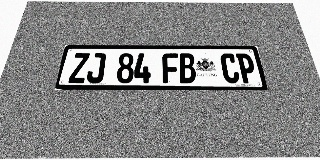4: (134, 53, 151, 83)
8: (116, 53, 135, 83)
B: (178, 53, 197, 83)
C: (220, 53, 241, 83)
F: (162, 53, 179, 83)
J: (86, 53, 106, 83)
P: (236, 53, 258, 83)
Z: (68, 53, 90, 83)
